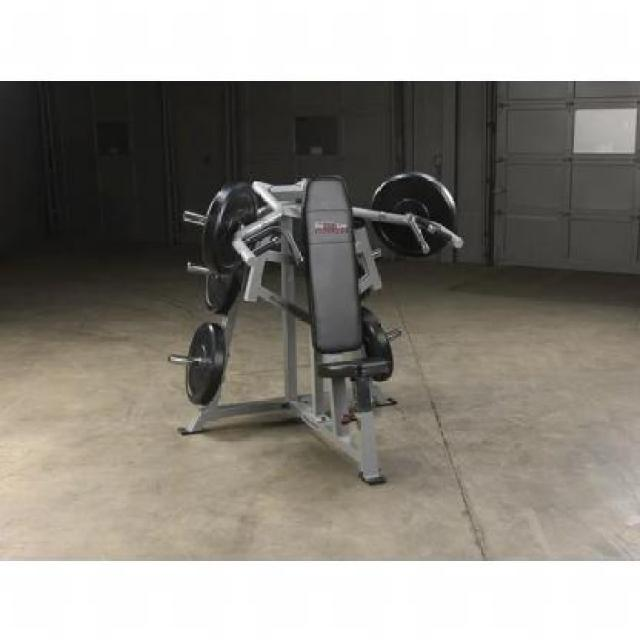shoulder press machine: (174, 172, 469, 488)
